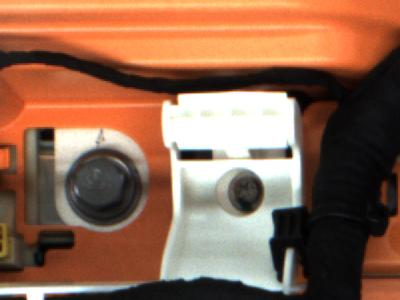nut_b: (61, 147, 147, 218)
